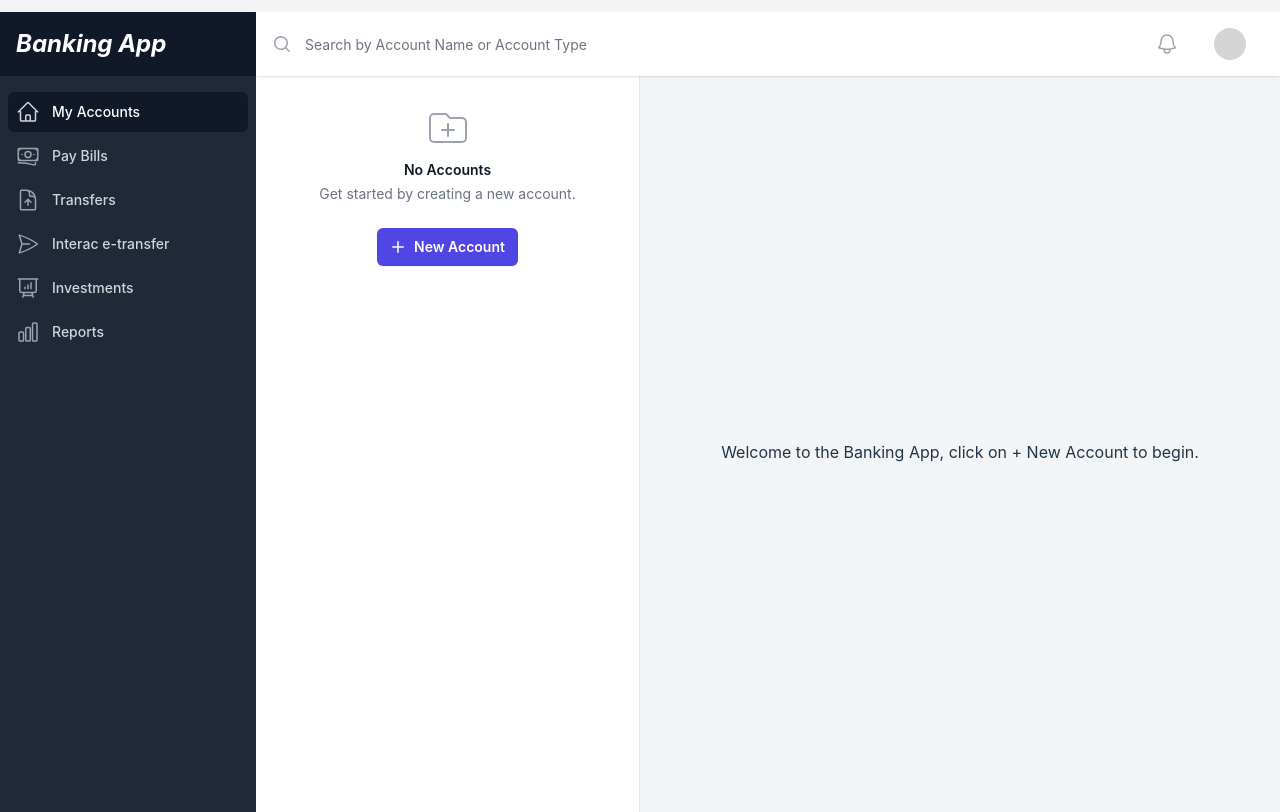
Test: bank accounts › should allow user to create multiple bank accounts
Click the button with test id "newAccountSideBar": point(448, 247) [377, 228, 518, 266]
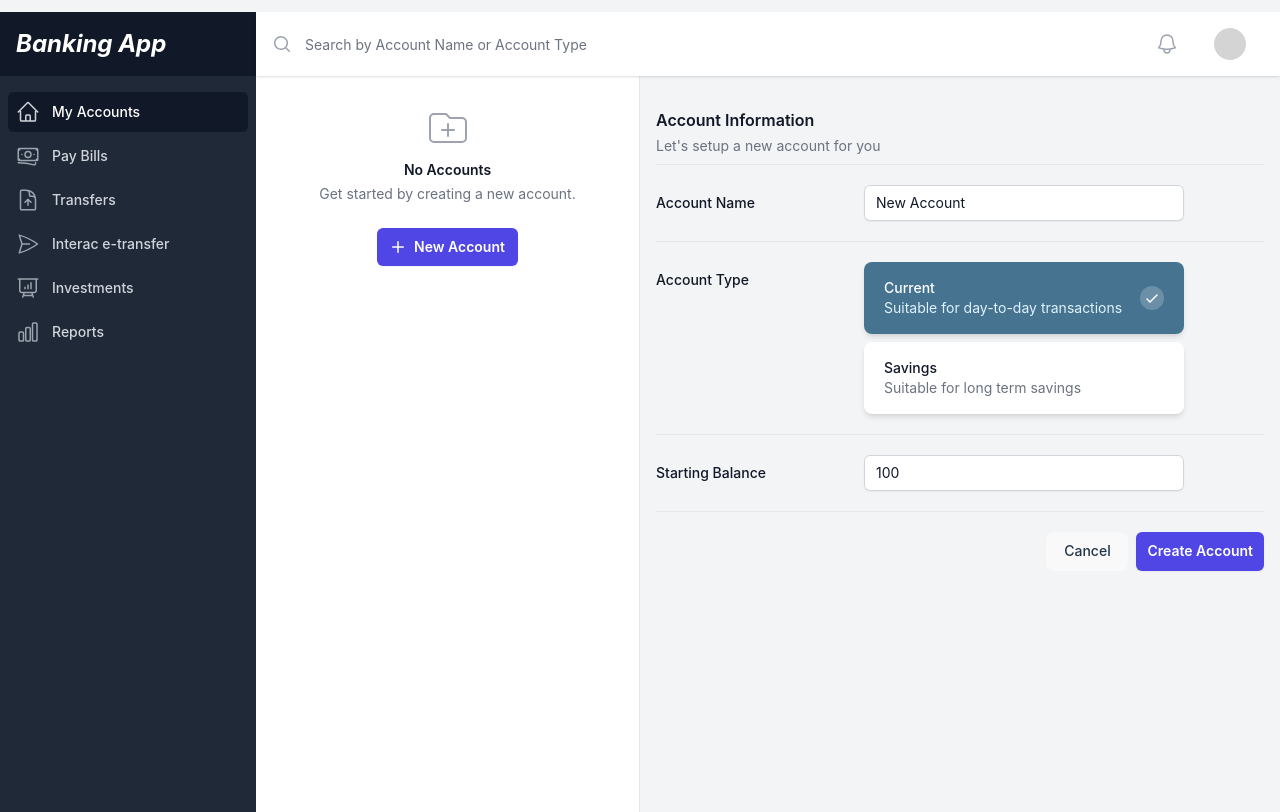
expect the heading "Account Information" is shown: met, box [656, 110, 814, 130]
Replace the text in the field with id "account-name" with "Test Account 1": point(1024, 203) [864, 185, 1184, 221]
Replace the text in the number field with id "starting-balance" with "1000": point(1024, 473) [864, 455, 1184, 491]
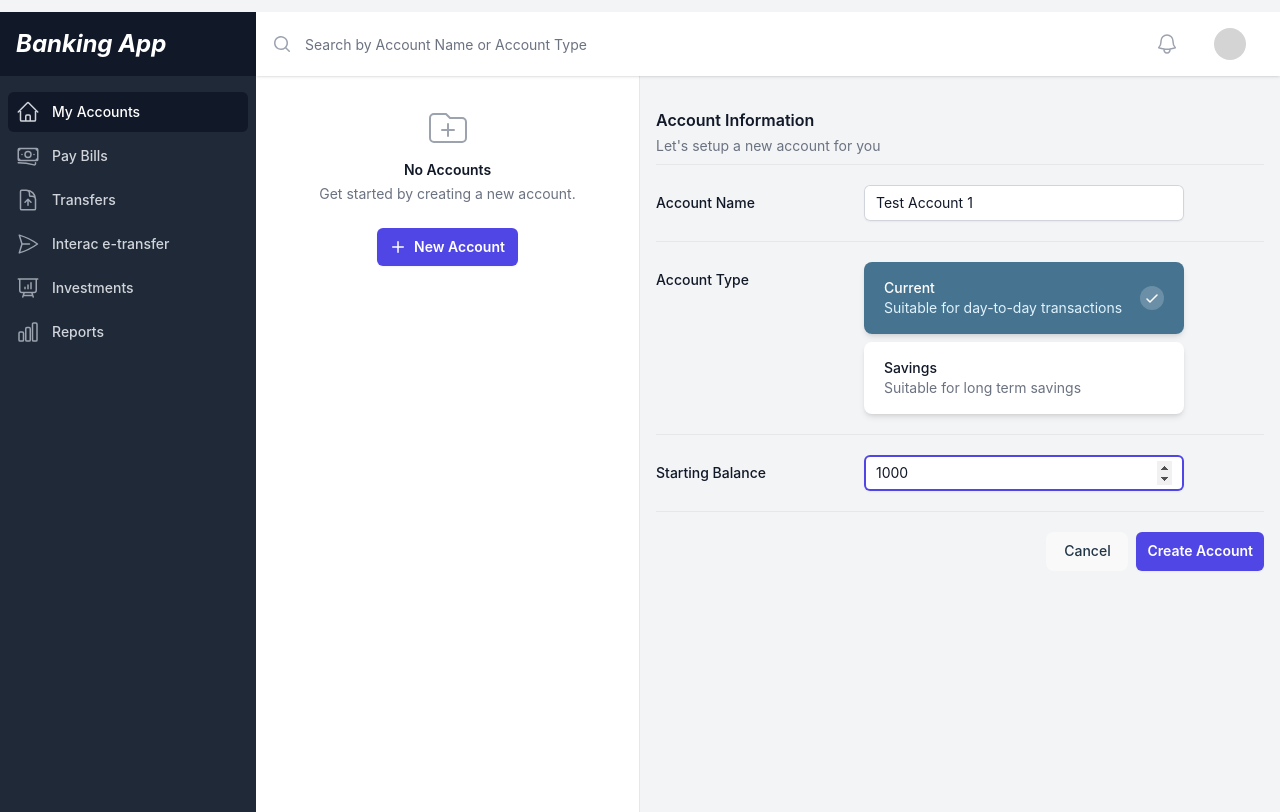
Click the button with test id "createAccount": point(1201, 552) [1137, 532, 1265, 571]
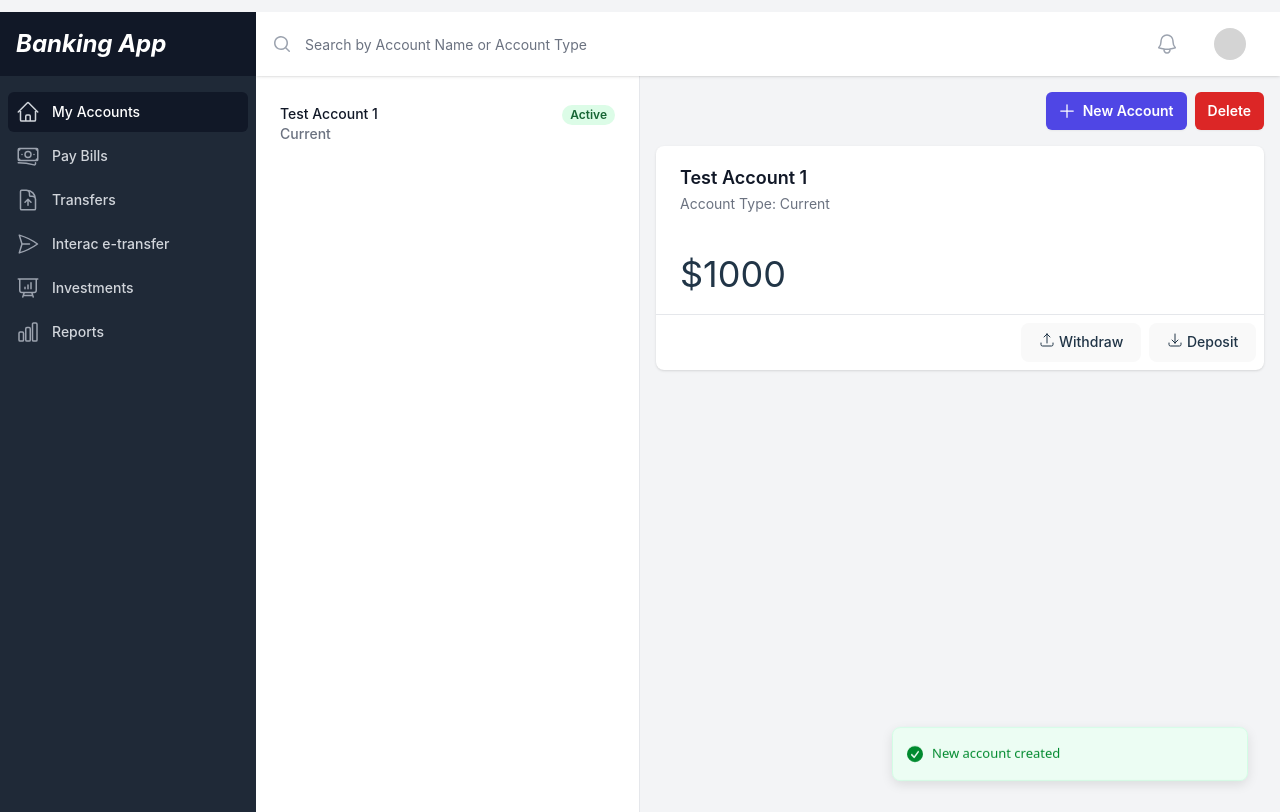
expect the link "Test Account 1 Current" is shown: met, box [280, 105, 378, 142]
Click the button with test id "newAccount": point(1117, 111) [1046, 92, 1187, 130]
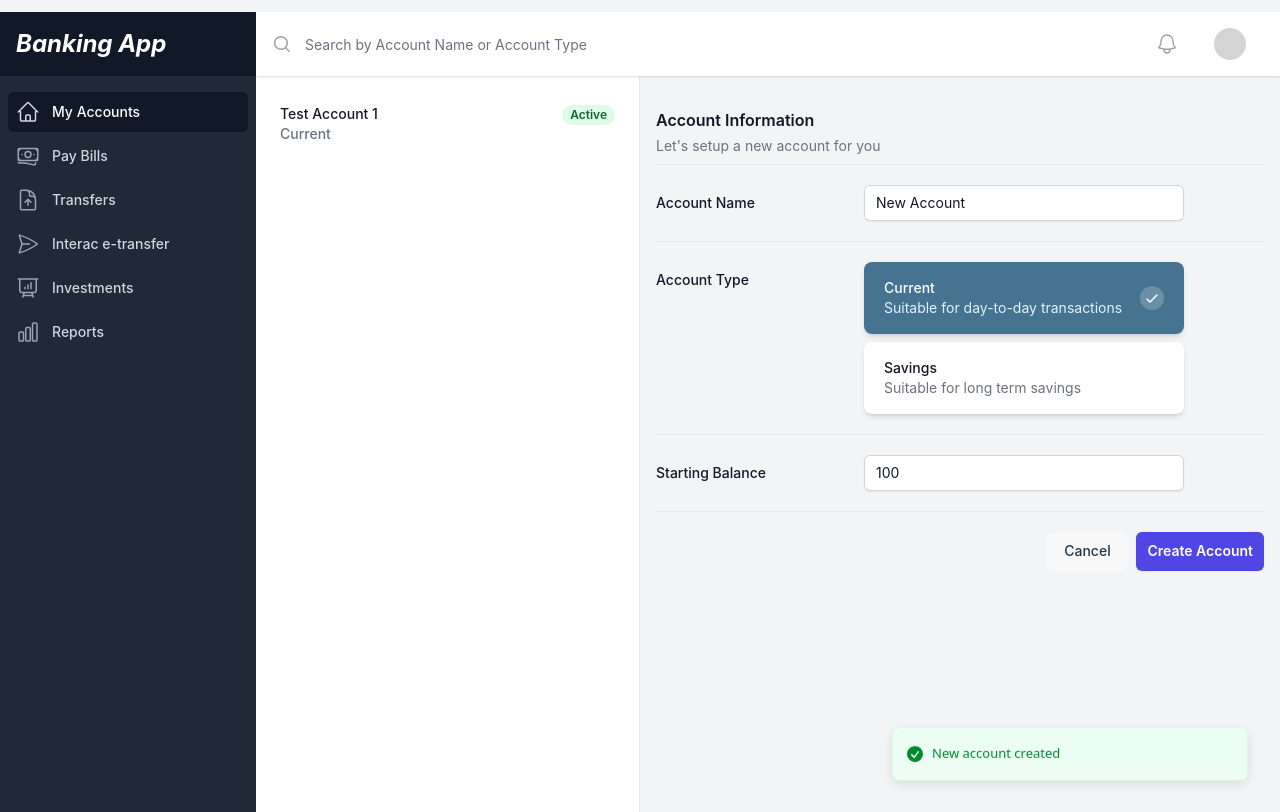
expect the heading "Account Information" is shown: met, box [656, 110, 814, 130]
Replace the text in the field with id "account-name" with "Test Account 2": point(1024, 203) [864, 185, 1184, 221]
Replace the text in the number field with id "starting-balance" with "1000": point(1024, 473) [864, 455, 1184, 491]
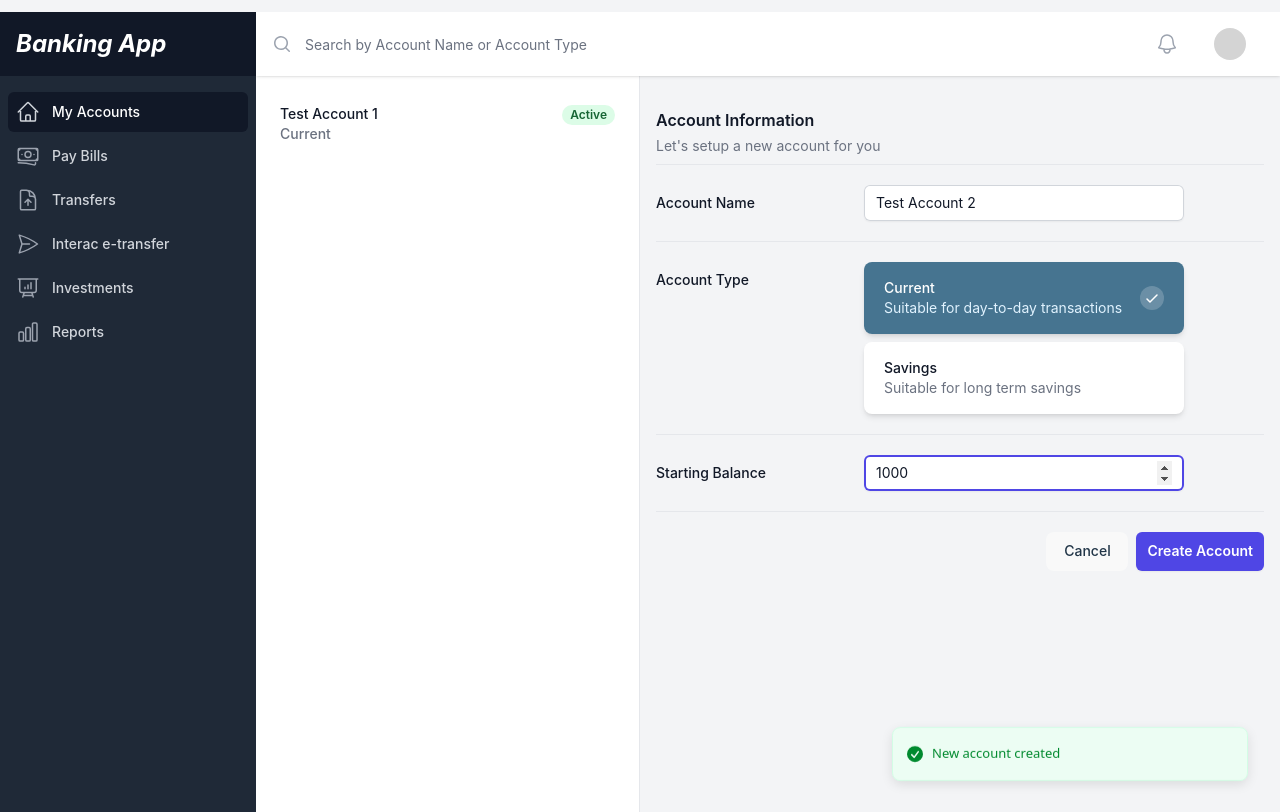
Click the button with test id "createAccount": point(1201, 552) [1137, 532, 1265, 571]
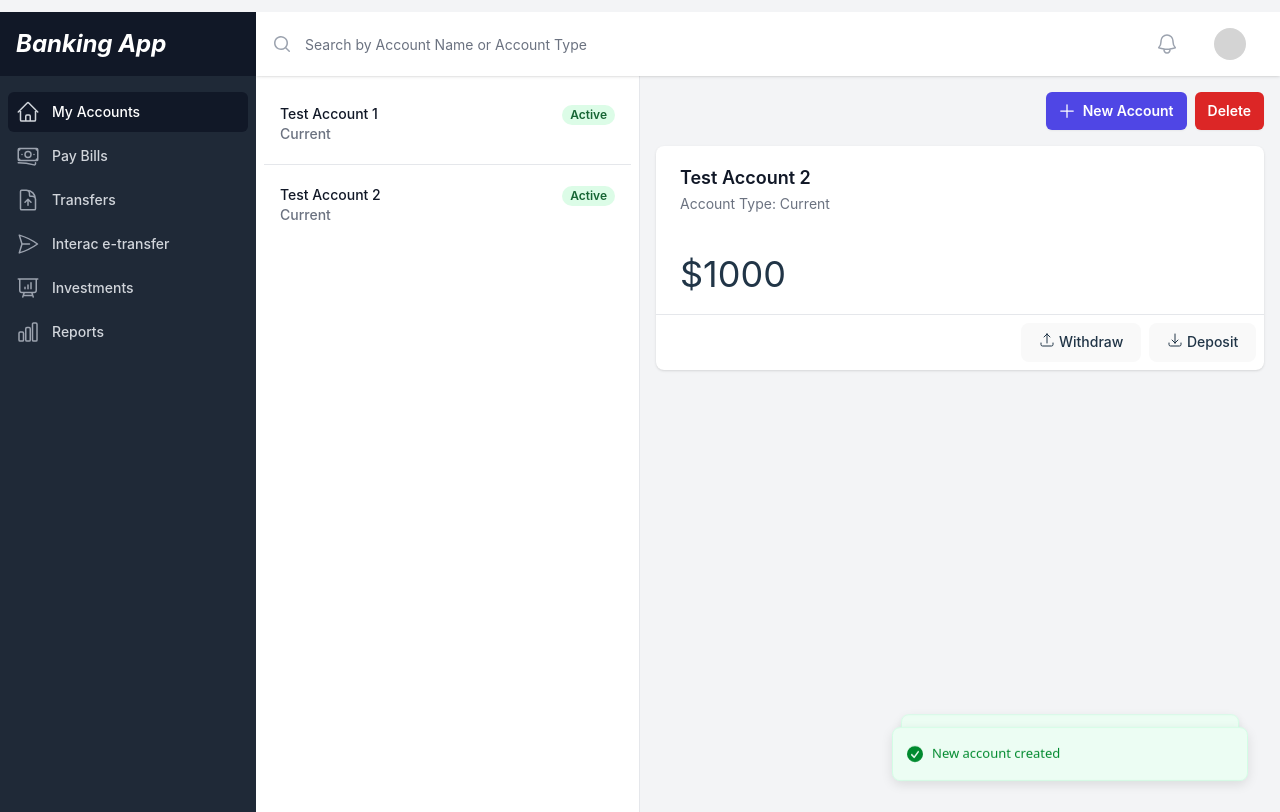
expect the link "Test Account 2 Current" is shown: met, box [280, 186, 381, 223]
